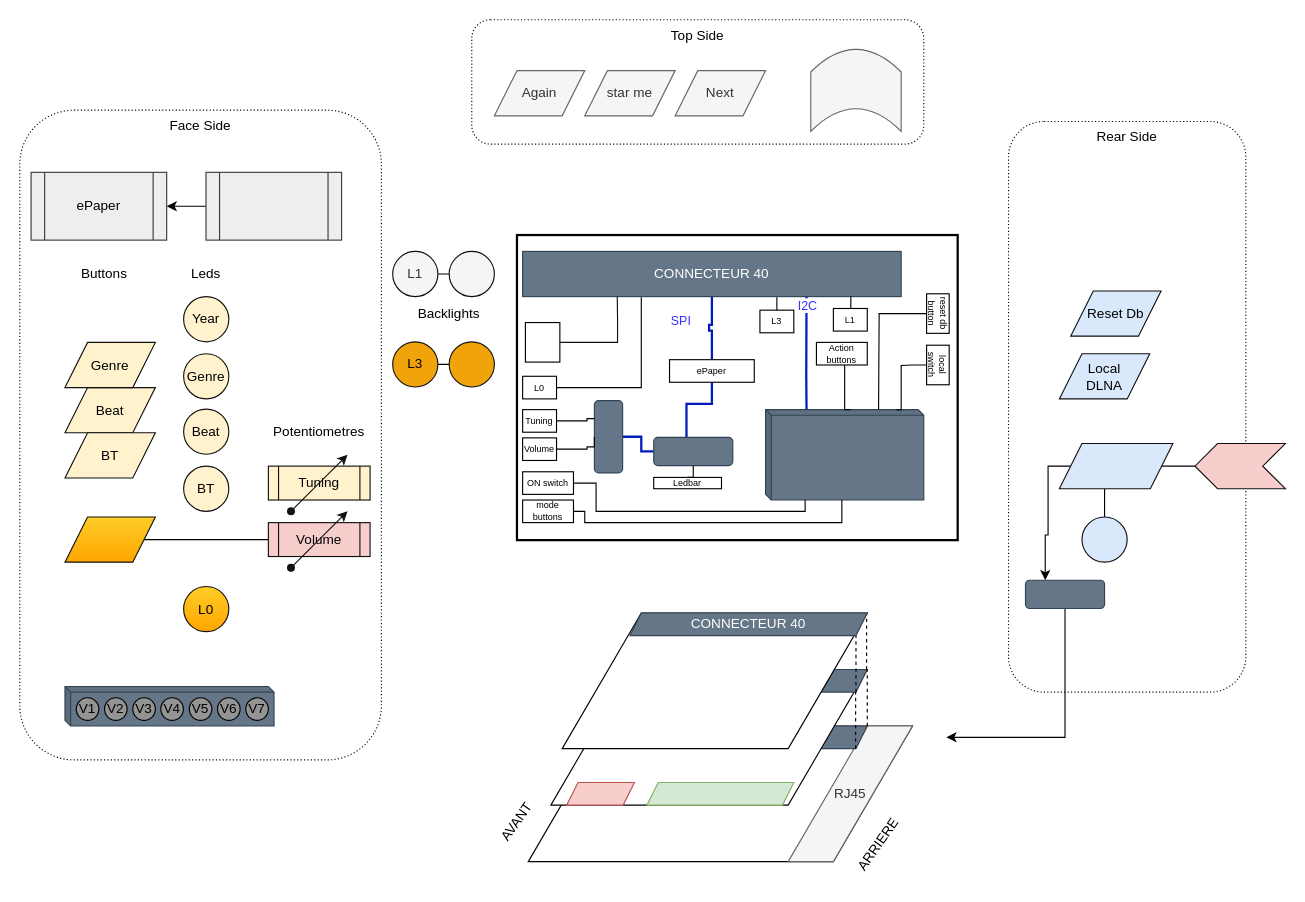
This 1305x902 diagram has some shape labels left out. The shapes that lost their labels are listed below. From the top down, each one's centre as x and y in pixels, then its label:
At point 855,89: "SPEAKER".
At point 273,205: "ePaper board".
At point 471,273: "L2".
At point 542,341: "Modes leds".
At point 471,364: "L4".
At point 608,436: "MCP3008".
At point 693,451: "74HC595".
At point 844,454: "PCF7585".
At point 1115,465: "POWER".
At point 1239,465: "12V".
At point 109,539: "ON".
At point 1104,539: "POW".
At point 1064,594: "LM78012".
At point 600,793: "IN 12v".
At point 720,793: "SORTIE HP".
